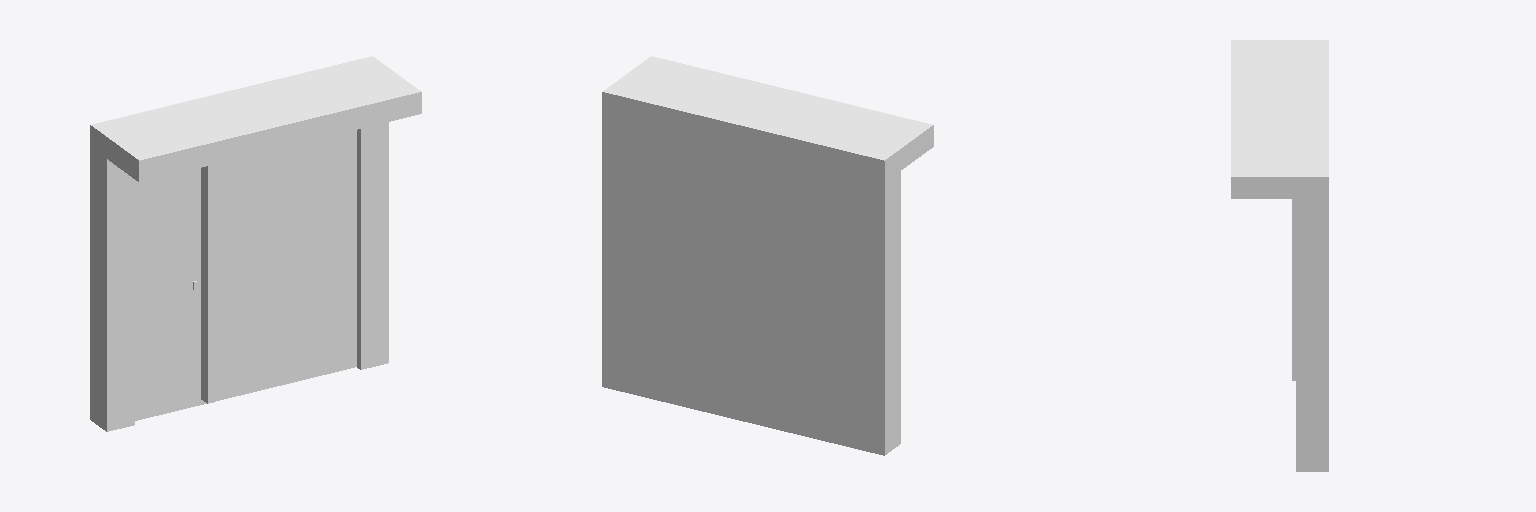
Rendered from entrance4-1-lod2.obj.
The picture shows the model from 3 angles: view 1: azimuth 30°, elevation 25°; view 2: azimuth 150°, elevation 25°; view 3: azimuth 270°, elevation 25°; orthographic projection.
Parts seen in each view (by area): view 1: lod2; view 2: lod2; view 3: lod2.
Boxes of the visible parts, <box> form: lod2: <box>90,56,421,431</box>; lod2: <box>602,56,933,455</box>; lod2: <box>1231,40,1328,471</box>.
Bounding box in the file's own units: 16 × 16 × 4.8.